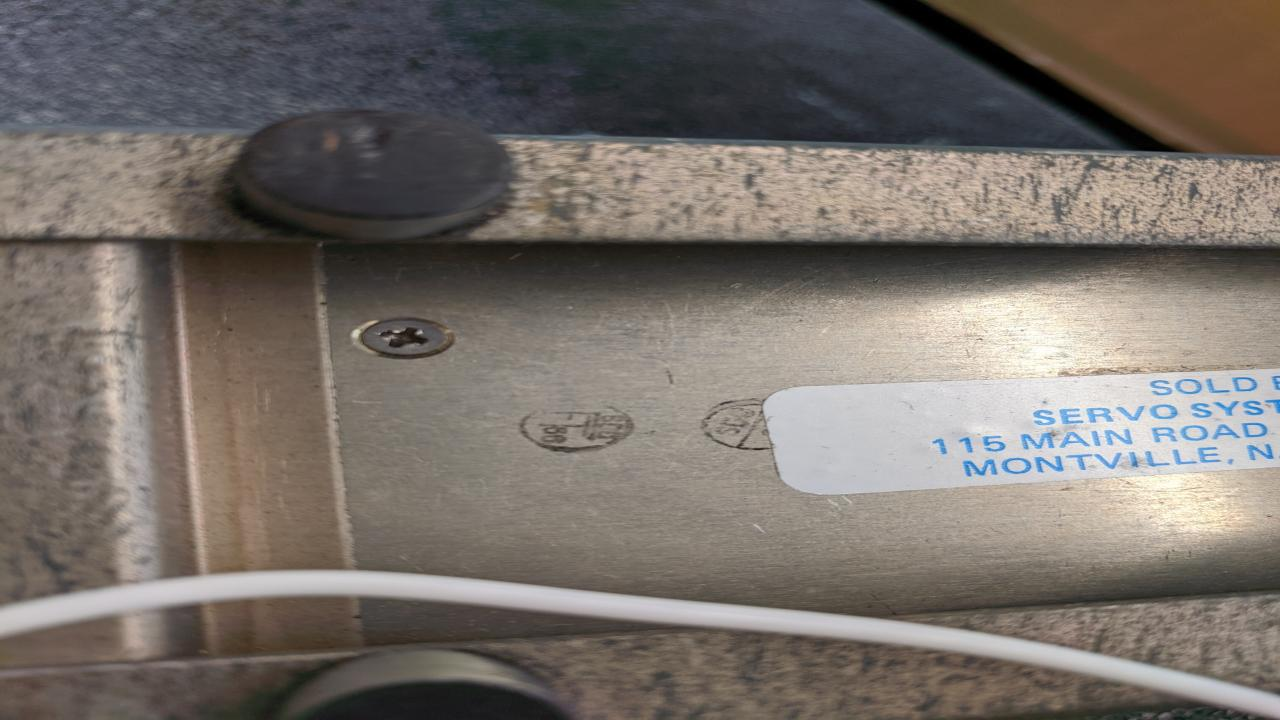CRS: (362, 318, 449, 360)
